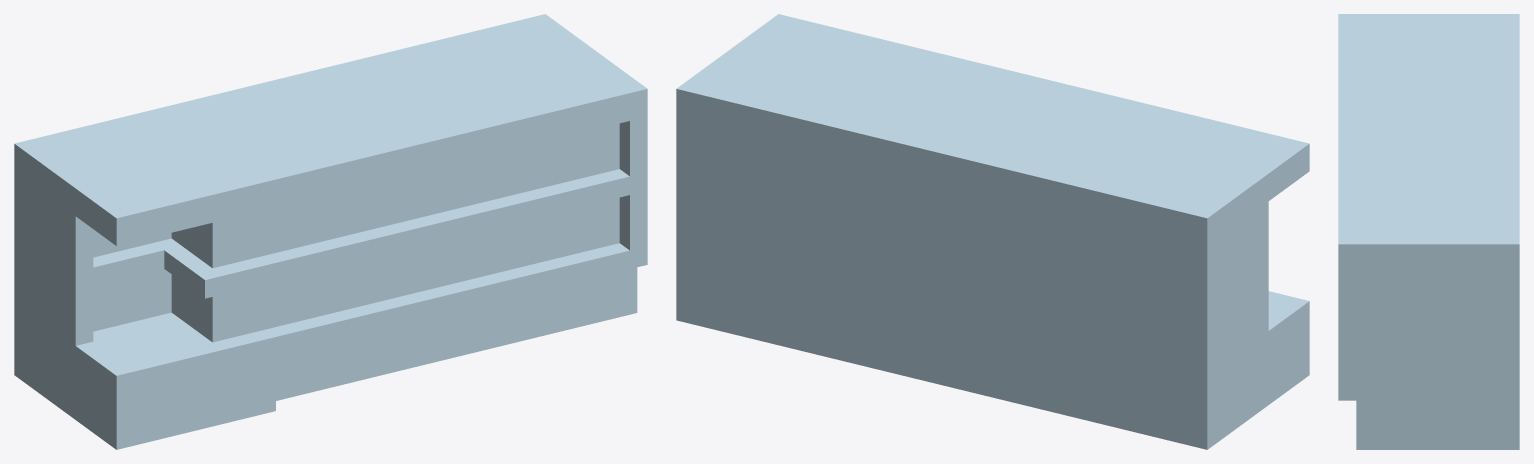
File: boikon.glb
3 renders of one model, left to right at view 1: azimuth 30°, elevation 25°; view 2: azimuth 150°, elevation 25°; view 3: azimuth 270°, elevation 25°, orthographic. The views are drawn at different scales.
Visible parts, largest first — view 1: world; view 2: world; view 3: world.
Boxes of the visible parts, x1,y1,x2,y2 form: world: (14, 14, 647, 449); world: (676, 14, 1309, 449); world: (1338, 14, 1519, 449).
Size of the model in its own units: 30 by 12.5 by 10.
